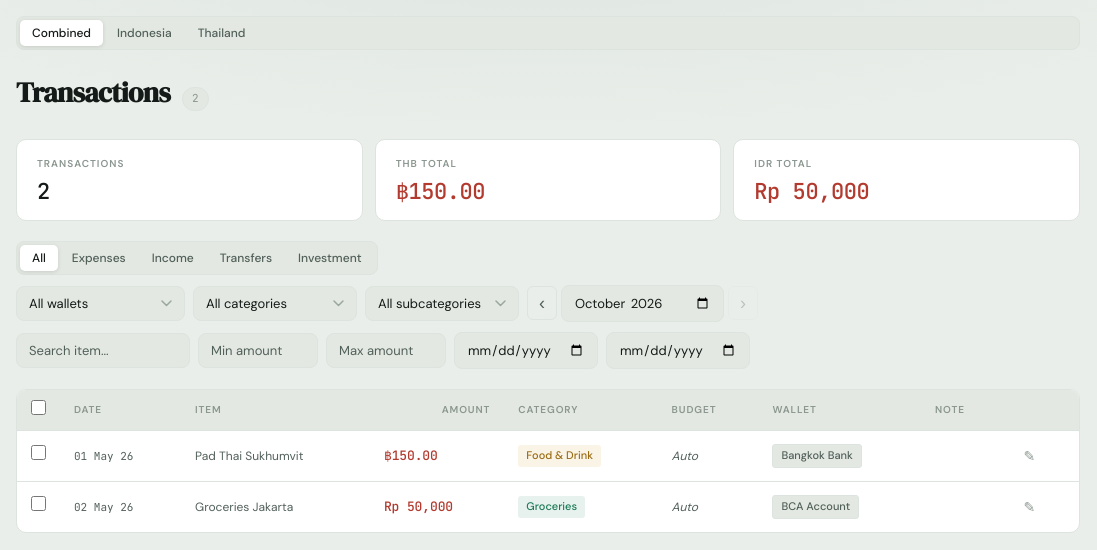
shows only the rows of the picked book
This screenshot has width=1097, height=550.
Expected: the text "Groceries Jakarta" is shown, [195,499,293,515]
Expected: the text "Pad Thai Sukhumvit" is shown, [195,448,303,464]
Click the button "Thailand".
click(222, 33)  # box [186,20,257,46]
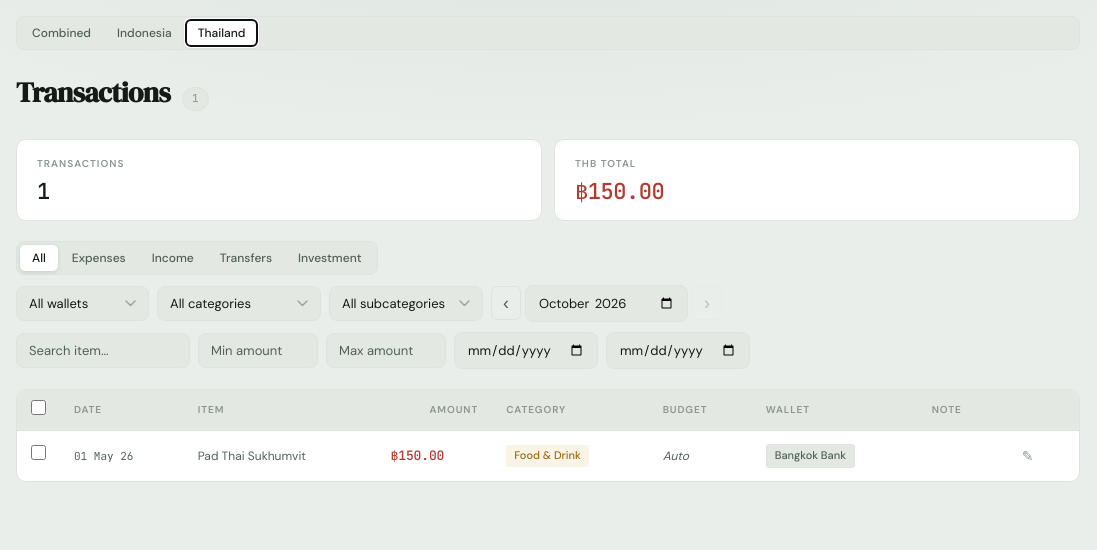
Expected: the text "Pad Thai Sukhumvit" is shown, [198,448,306,464]
Expected: the text "Groceries Jakarta" is not shown
Click the button "Indonesia".
click(144, 33)  # box [105,20,184,46]
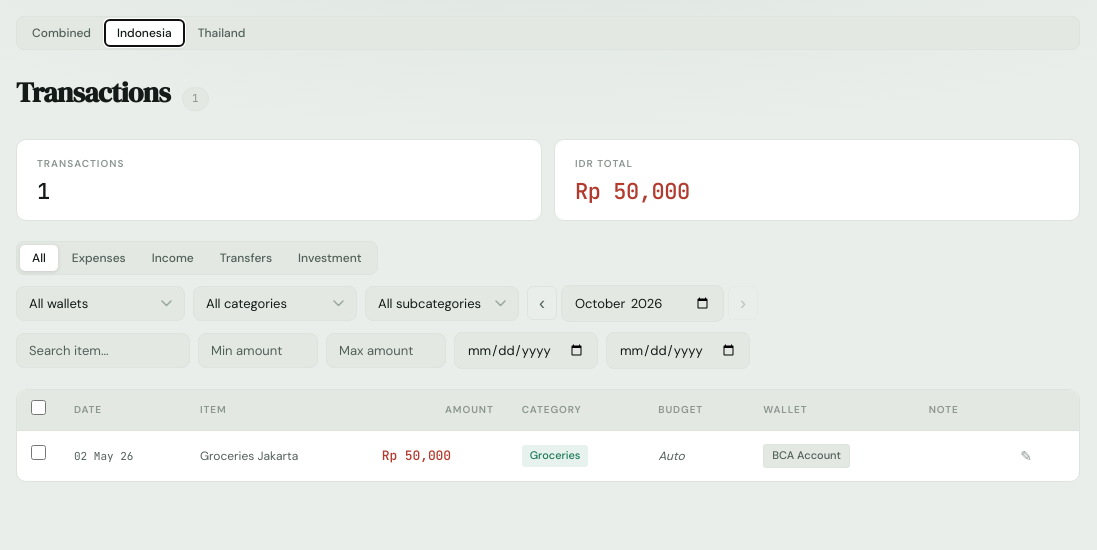
Expected: the text "Groceries Jakarta" is shown, [200,448,298,464]
Expected: the text "Pad Thai Sukhumvit" is not shown
